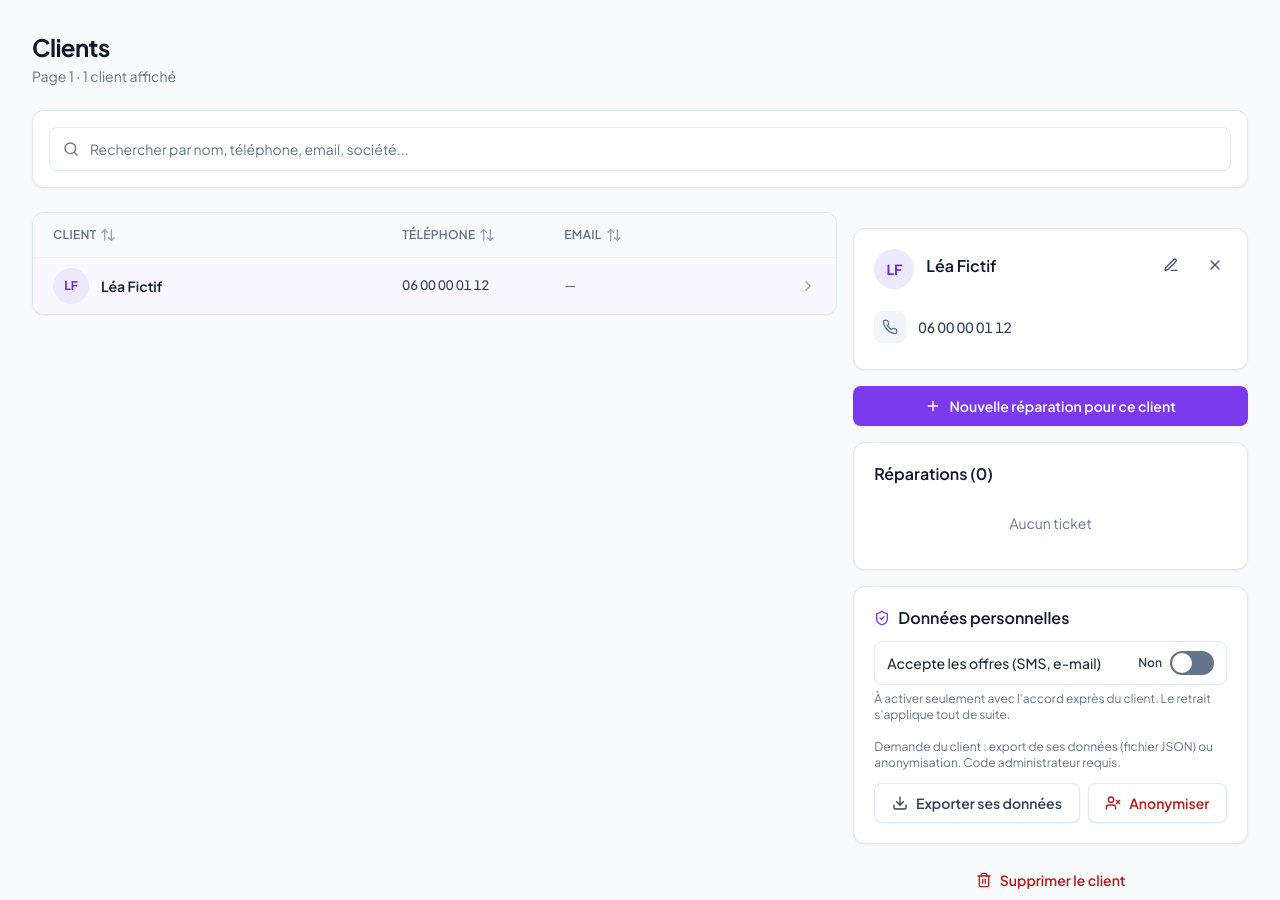
Test: Demande de code admin : au-dessus des autres fenêtres › code annulé (Échap) : la confirmation reprend le focus
The width and height of the screenshot is (1280, 900).
Click the button "Anonymiser" at coordinates (1157, 803), box x1=1088 y1=783 x2=1227 y2=823
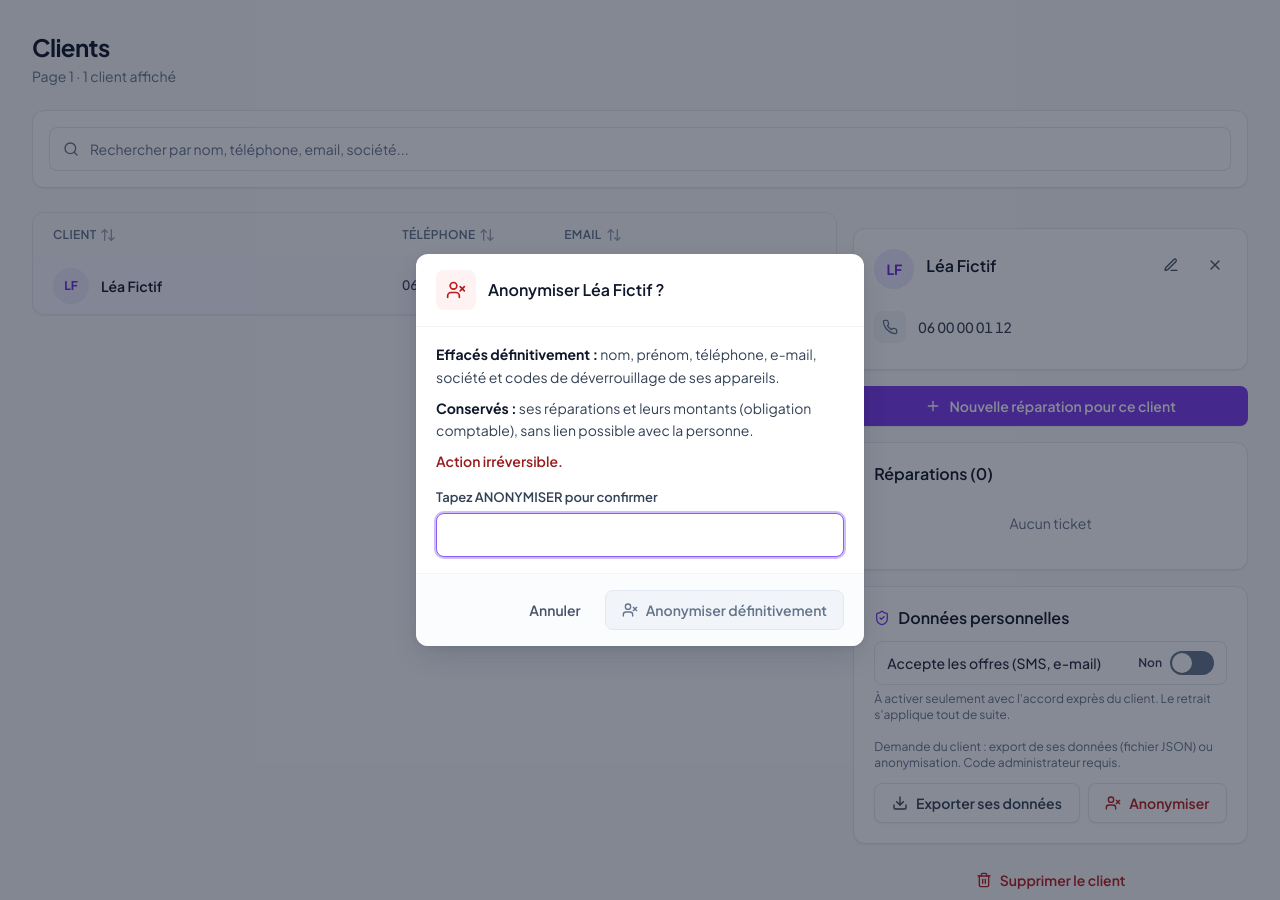
Type "ANONYMISER" into the field labelled "Tapez ANONYMISER pour confirmer" at coordinates (640, 535), box x1=436 y1=513 x2=844 y2=557
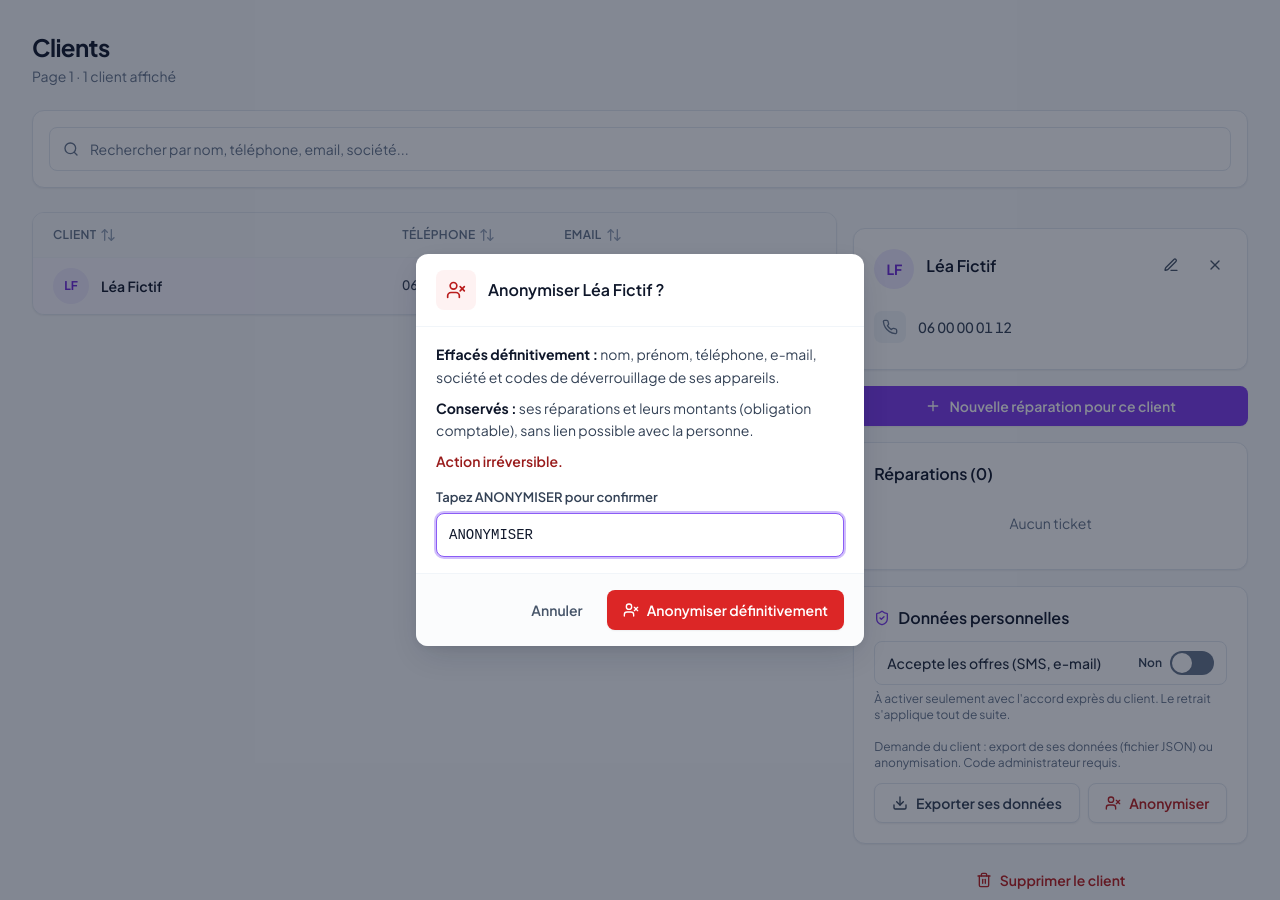
Click the button "Anonymiser définitivement" at coordinates (725, 610), box x1=607 y1=590 x2=844 y2=630
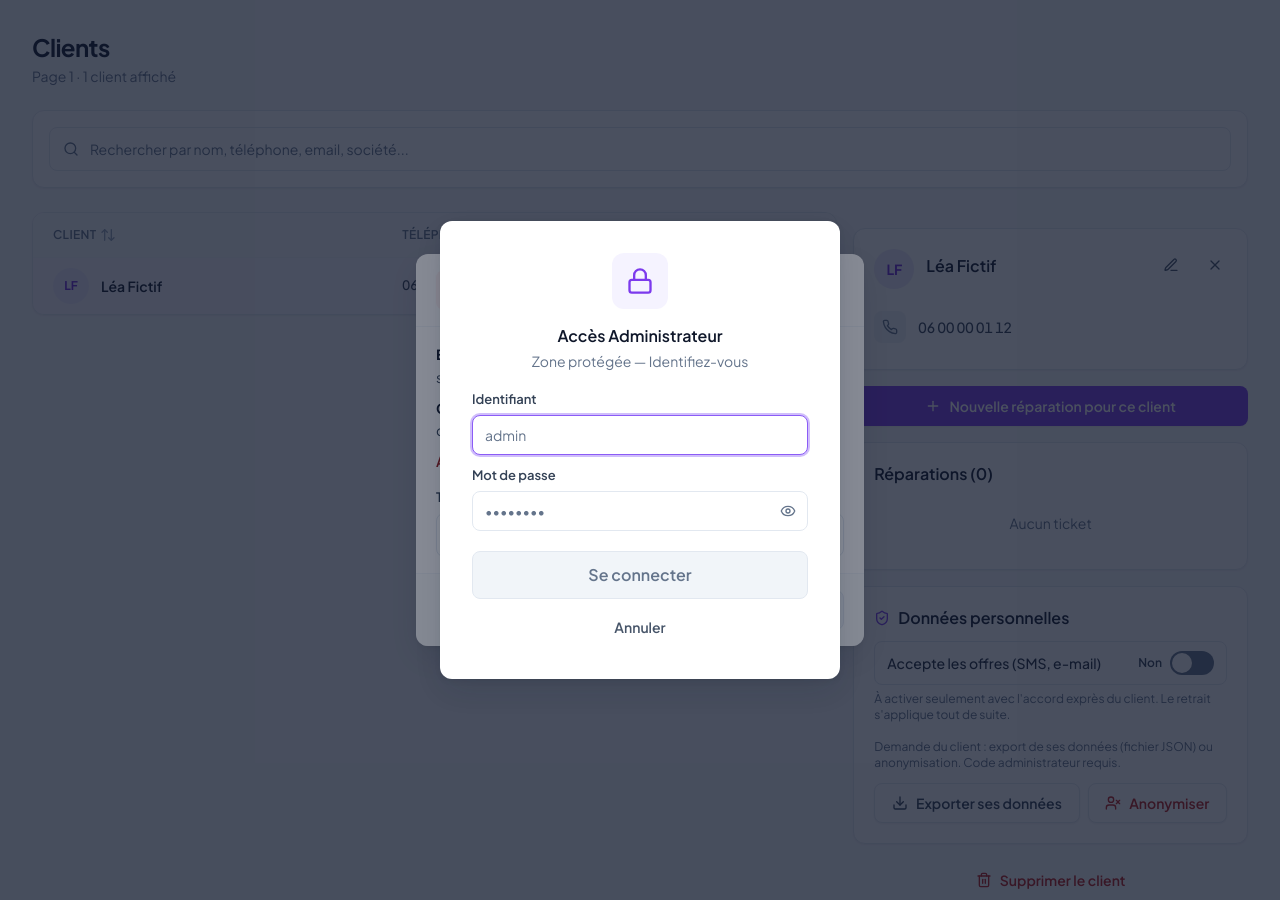
Press Escape in the field labelled "Identifiant", box x1=472 y1=415 x2=808 y2=455
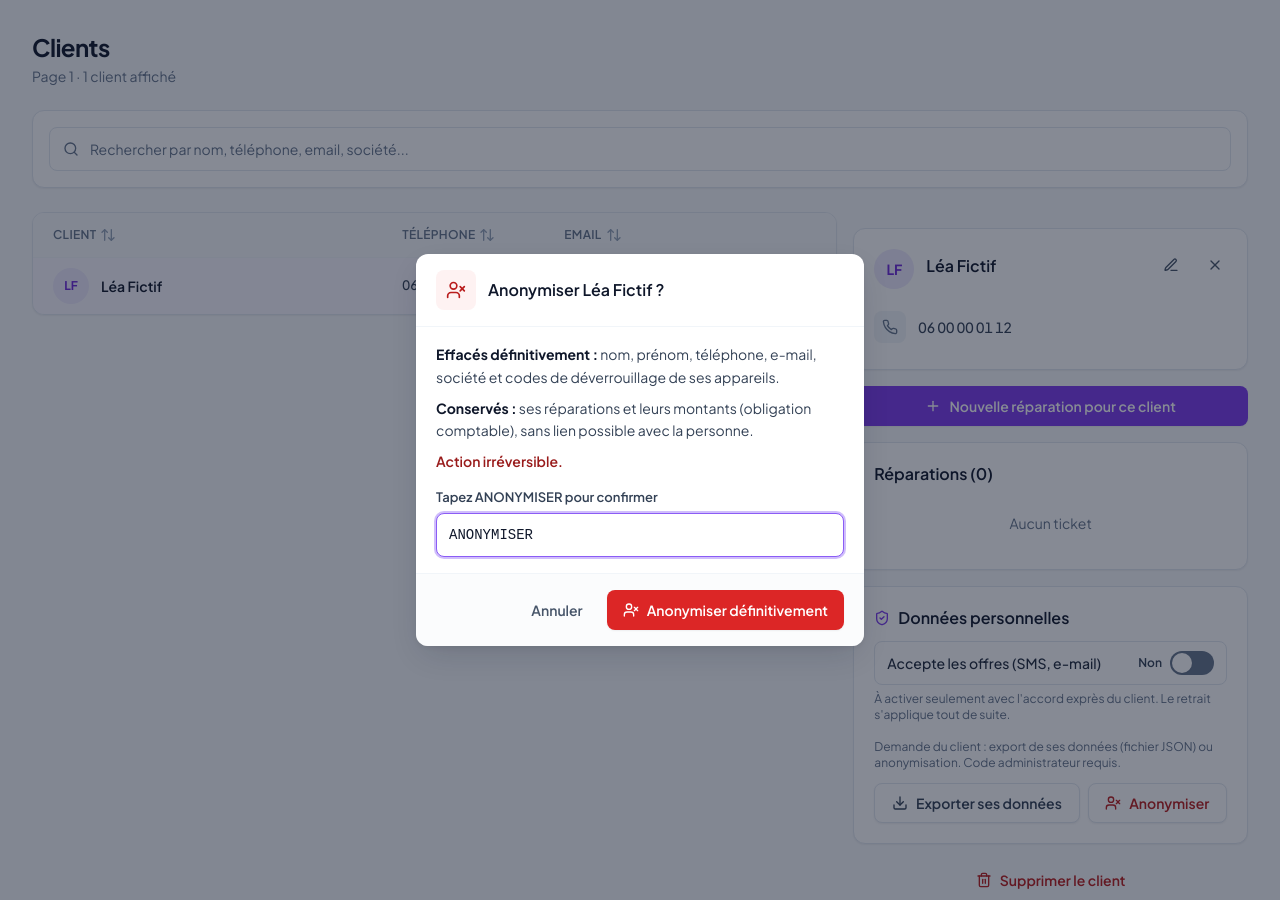
Result: the dialog is shown at x1=416 y1=254 x2=864 y2=646
Result: the heading "Accès Administrateur" is gone
